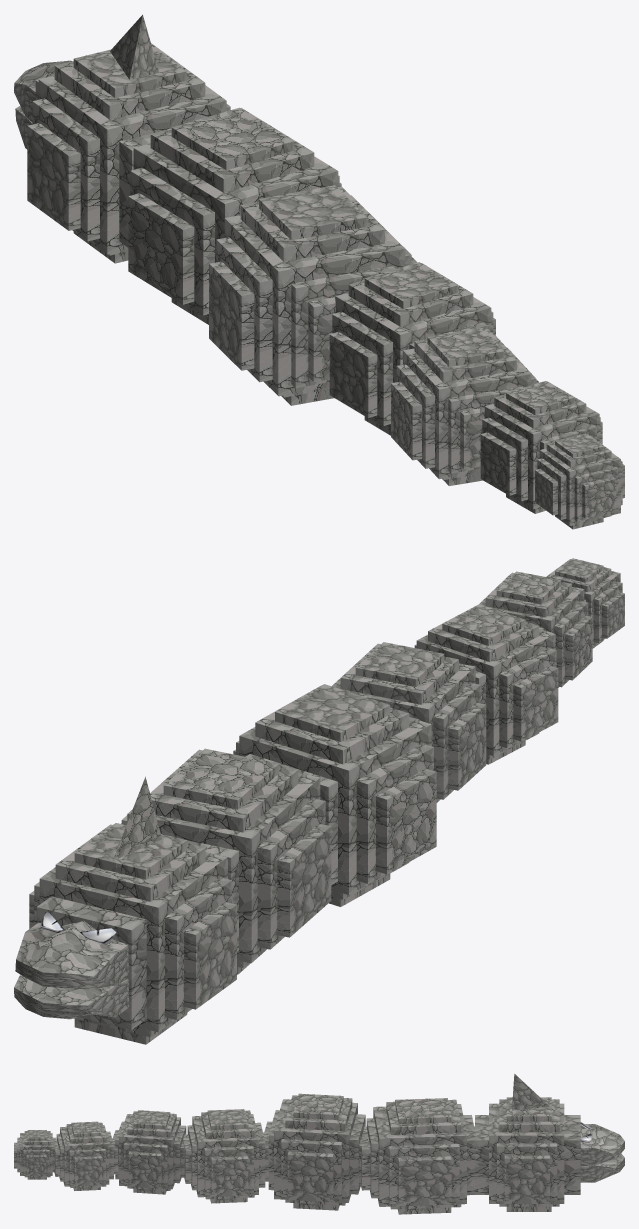
File: Onix.obj
3 renders of one model, top to bottom at view 1: azimuth 30°, elevation 25°; view 2: azimuth 150°, elevation 25°; view 3: azimuth 270°, elevation 25°, orthographic. The views are drawn at different scales.
Parts seen in each view (by area): view 1: Onix; view 2: Onix; view 3: Onix.
Boxes of the visible parts, left/top/right/bottom form: Onix: left=14, top=14, right=624, bottom=529; Onix: left=14, top=558, right=624, bottom=1044; Onix: left=14, top=1074, right=624, bottom=1214.
Bounding box in the file's own units: 6.27 × 7.42 × 31.9.
